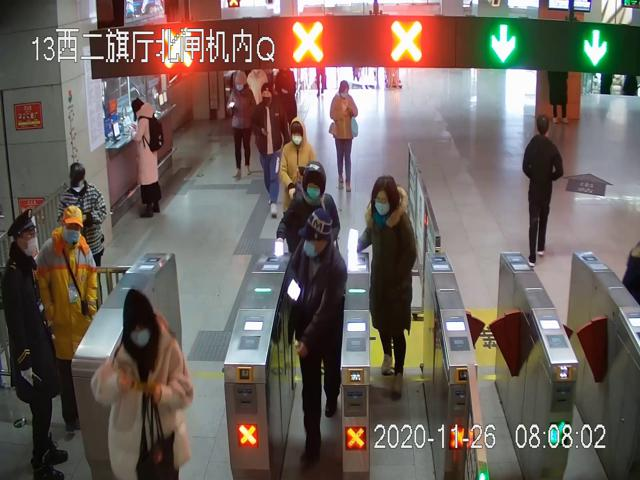person: (2, 208, 71, 480), (32, 204, 99, 439), (290, 209, 347, 469), (359, 175, 412, 398), (523, 112, 565, 267), (129, 96, 166, 220), (252, 82, 284, 217), (277, 119, 315, 211), (329, 79, 358, 192), (226, 71, 256, 179)
